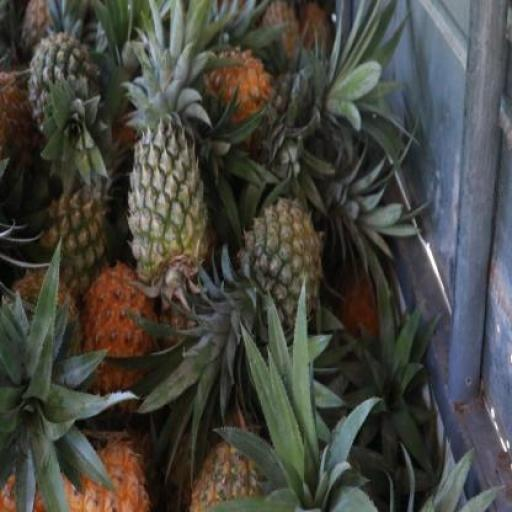Pineapple - v8 v1: (79, 262, 154, 412), (47, 424, 155, 512), (200, 47, 279, 130)
